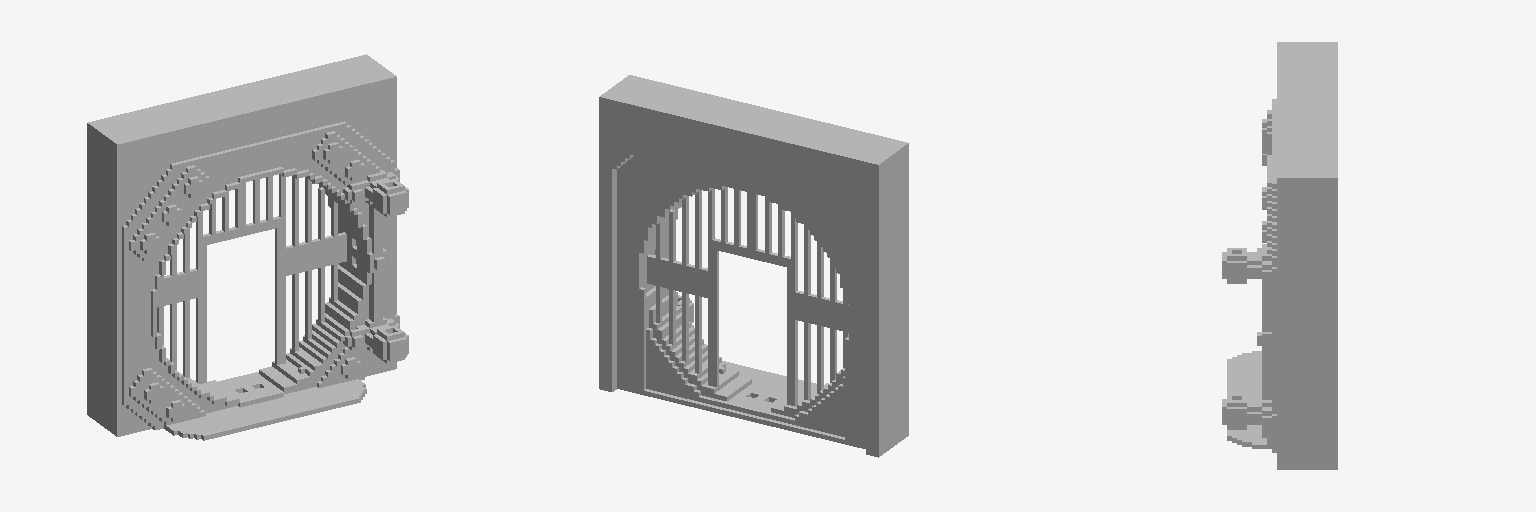
The model's file is Menu Obs-11.obj.
3 renders of one model, left to right at view 1: azimuth 30°, elevation 25°; view 2: azimuth 150°, elevation 25°; view 3: azimuth 270°, elevation 25°, orthographic.
Visible parts, largest first — view 1: Menu Obs-11; view 2: Menu Obs-11; view 3: Menu Obs-11.
Boxes of the visible parts, x1,y1,x2,y2 form: Menu Obs-11: [87, 54, 408, 440]; Menu Obs-11: [599, 75, 908, 457]; Menu Obs-11: [1222, 42, 1337, 469].
Bounding box in the file's own units: 64 × 64 × 23.